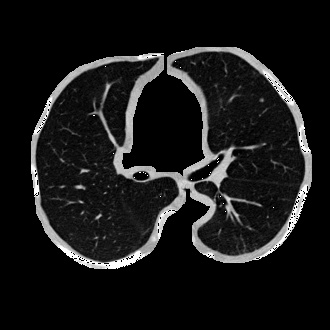PN: (259, 98, 263, 102)
